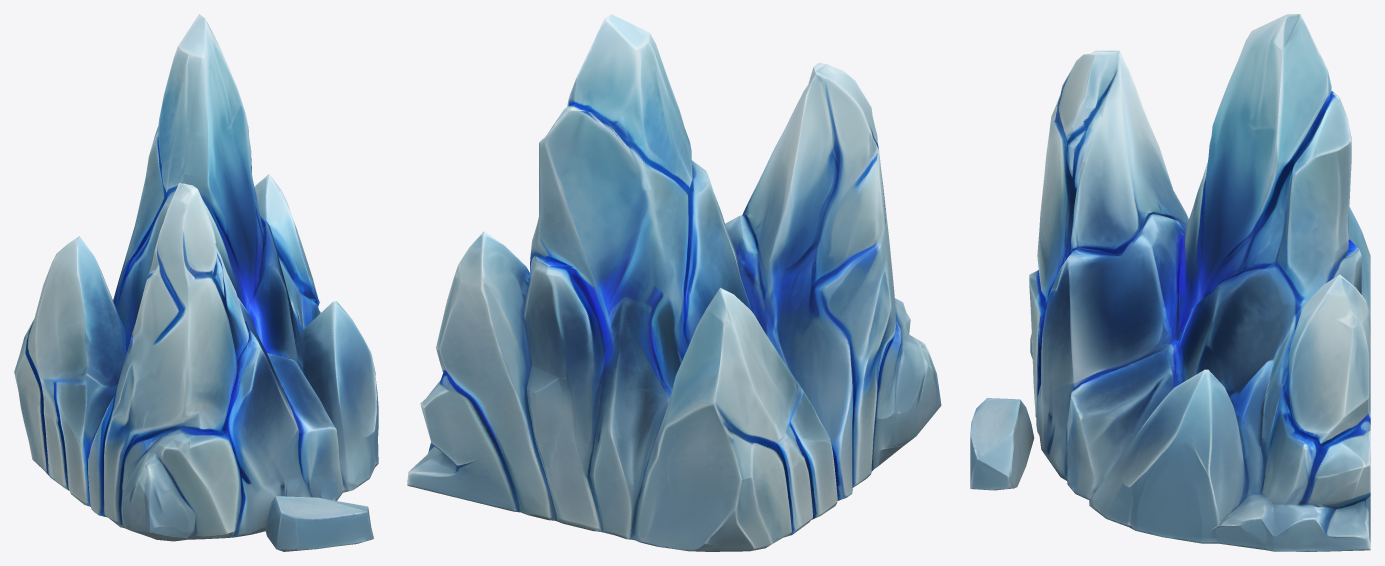
File: base_basic_shaded.glb
3 renders of one model, left to right at view 1: azimuth 30°, elevation 25°; view 2: azimuth 150°, elevation 25°; view 3: azimuth 270°, elevation 25°, orthographic. The views are drawn at different scales.
Visible parts, largest first — view 1: model; view 2: model; view 3: model.
Part boxes in pixels (box(x1,y1,x2,y2)): model: box(14, 14, 378, 551); model: box(407, 14, 941, 551); model: box(970, 14, 1370, 551).
Bounding box in the file's own units: 1.49 × 1.9 × 1.49.
1 material, 1 textured.
